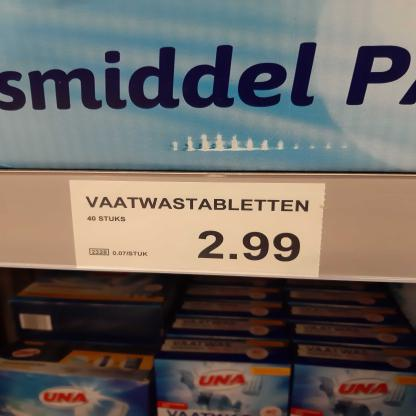prtg: (69, 181, 327, 280)
